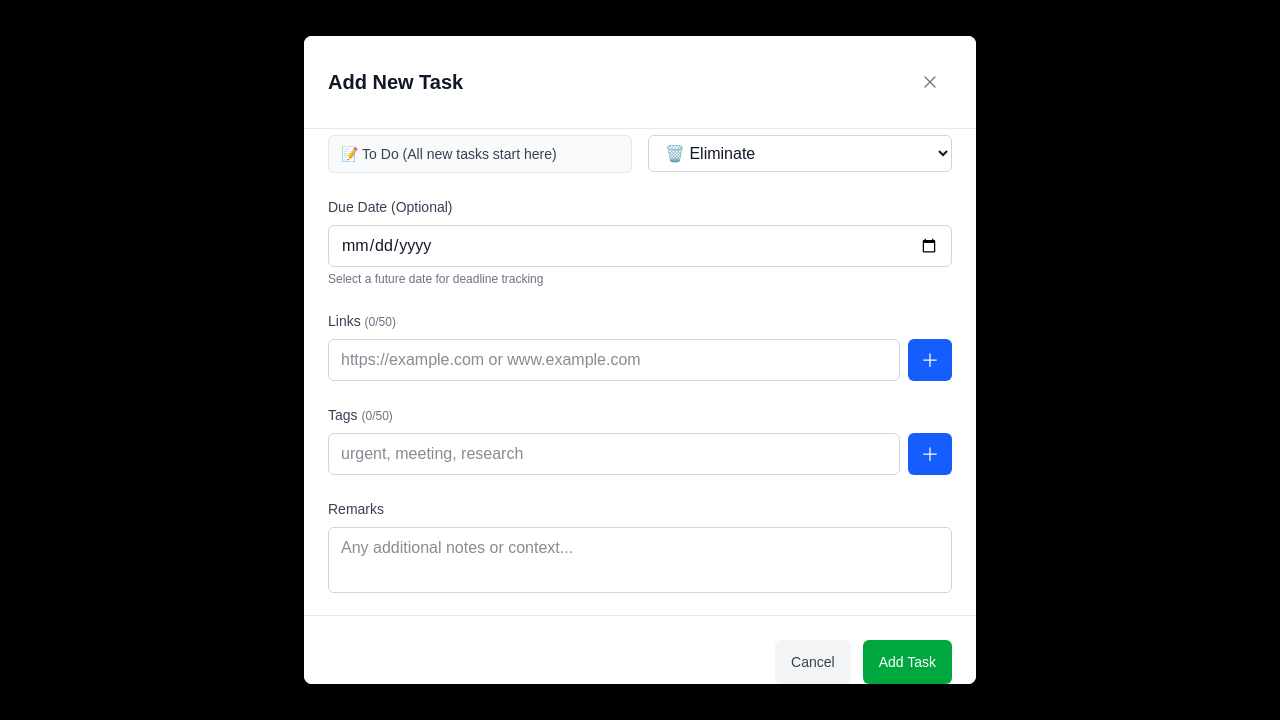
Scenario: AddTaskModal - Form Validation › Link Management › adds valid URL
(page scrolled)
Click the field with placeholder "https://example.com or www.example.com".
click(614, 360)  # box x1=328 y1=339 x2=900 y2=381
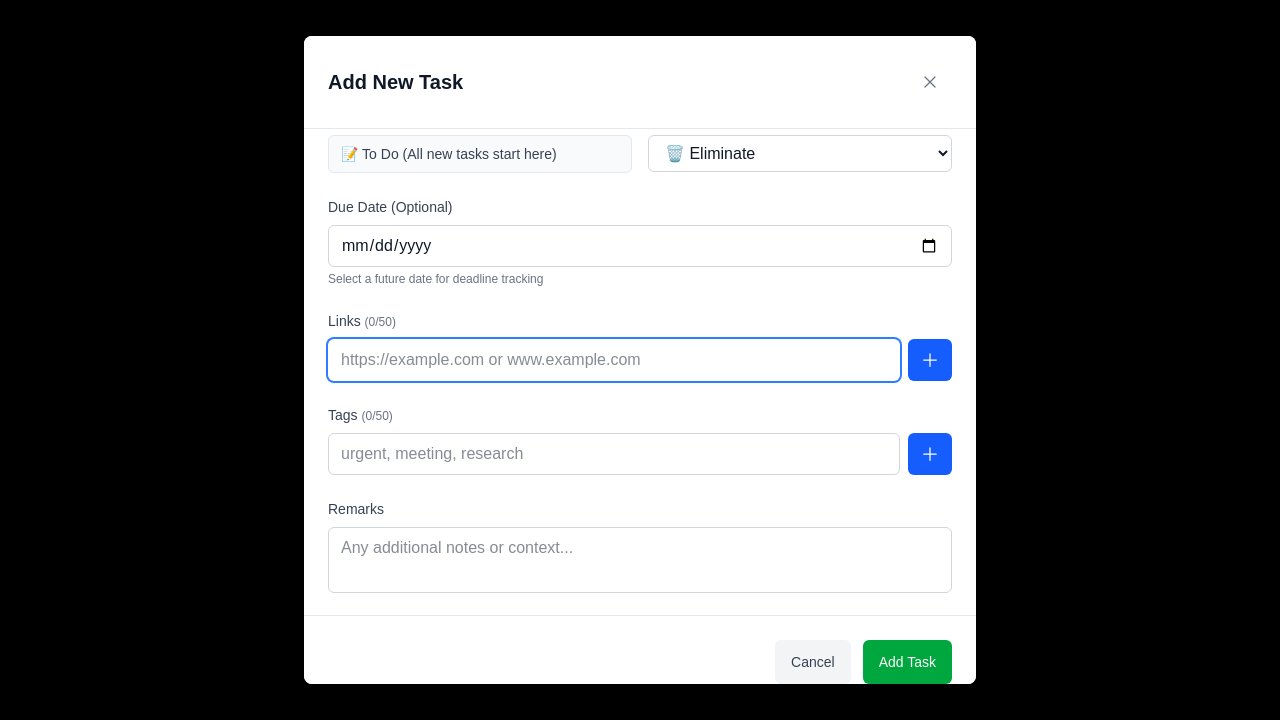
Type keys "https://example.com"
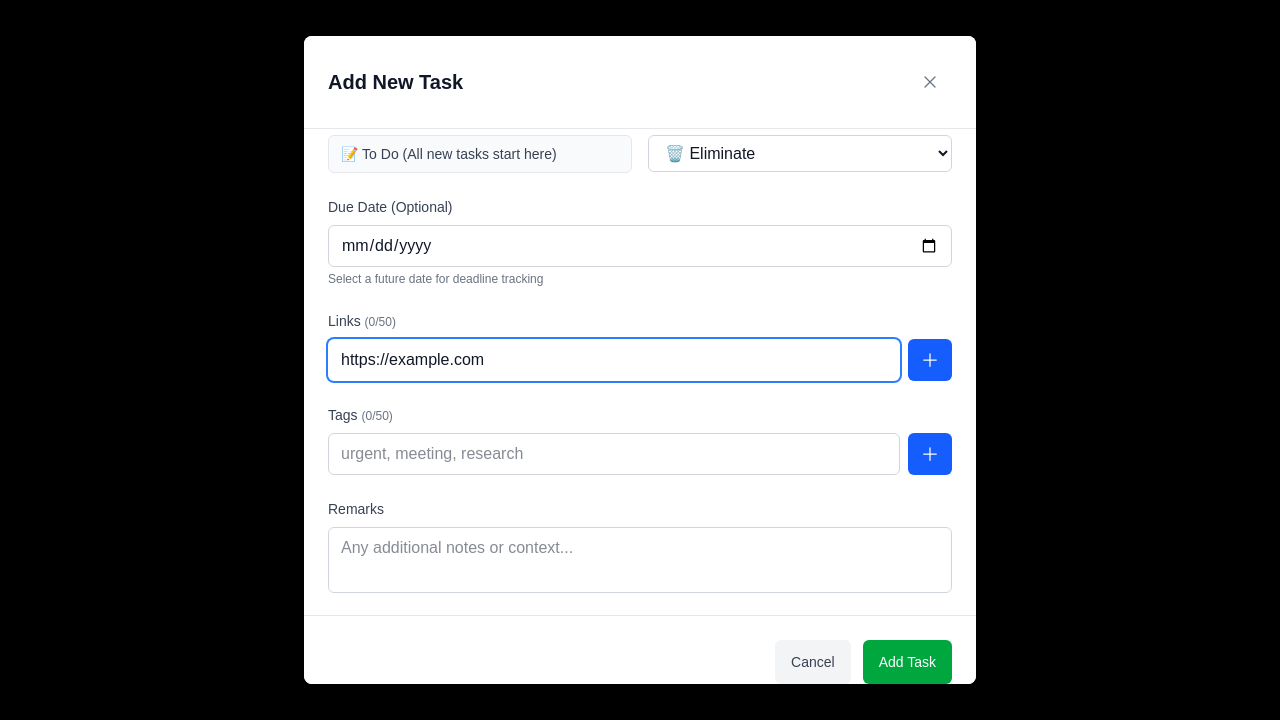
Click the button named "Add link to task".
click(930, 360)  # box x1=908 y1=339 x2=952 y2=381
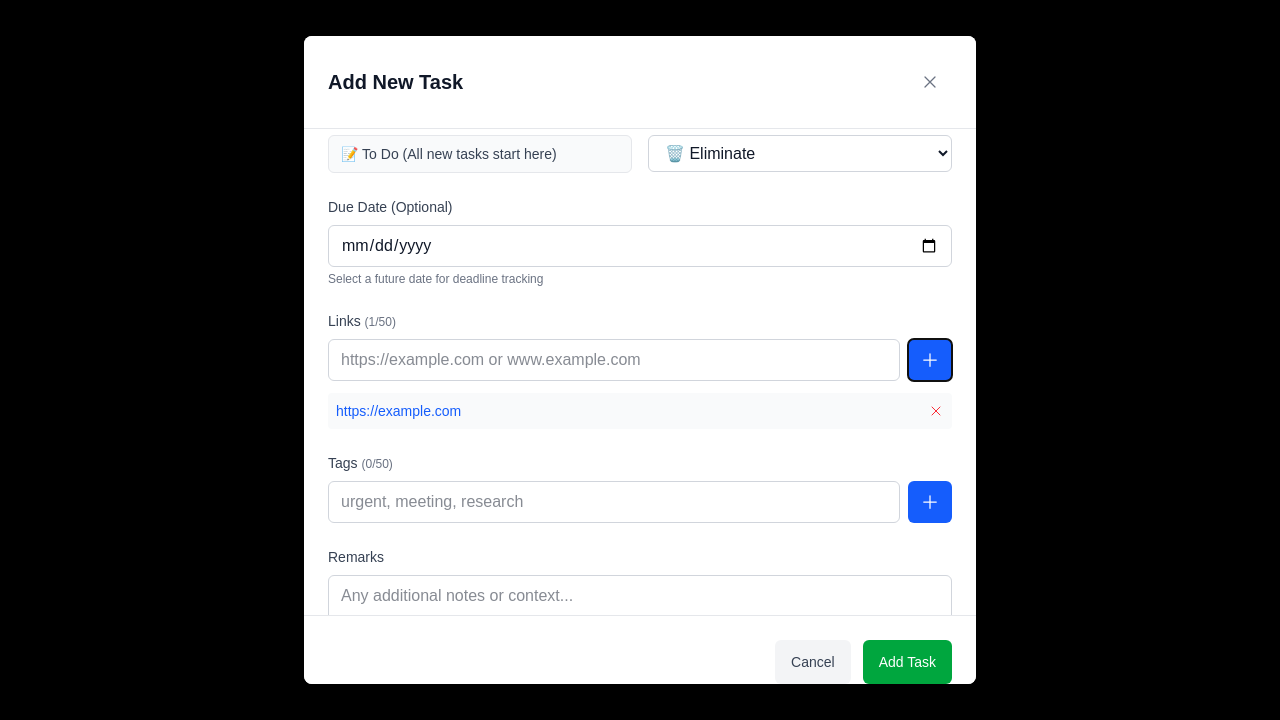
Check: the text "https://example.com" is shown, box x1=336 y1=403 x2=461 y2=419
